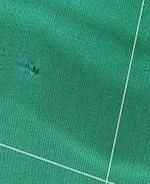knot: (18, 59, 41, 80)
